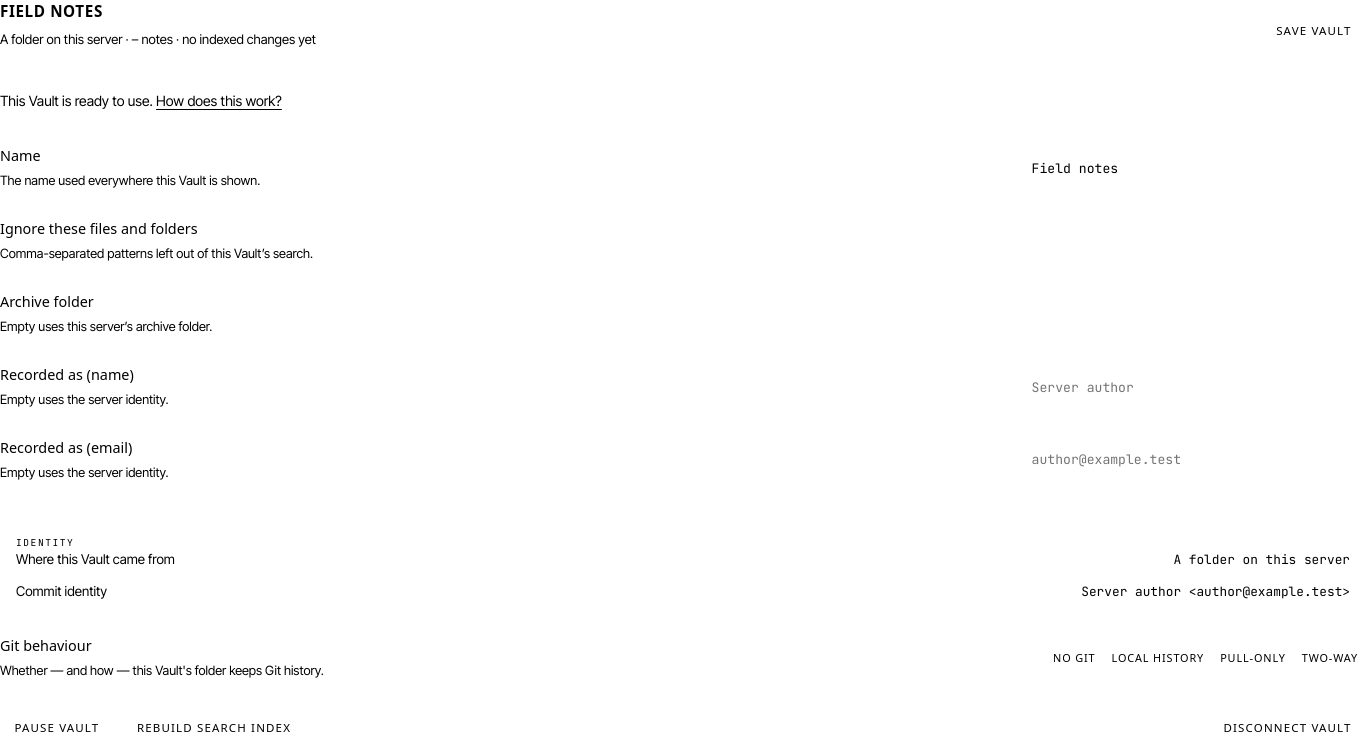
Test: VaultSettingsDetail — the Git behaviour control › also reports nothing changed, with the server's own reason, when the pause step itself fails
The image size is (1366, 752).
Expected: the heading "Field notes" is shown, top-left (0, 1), bottom-right (103, 21)
Step 1. Click the button "Local history" → [1158, 658], box top-left (1104, 644), bottom-right (1212, 672)
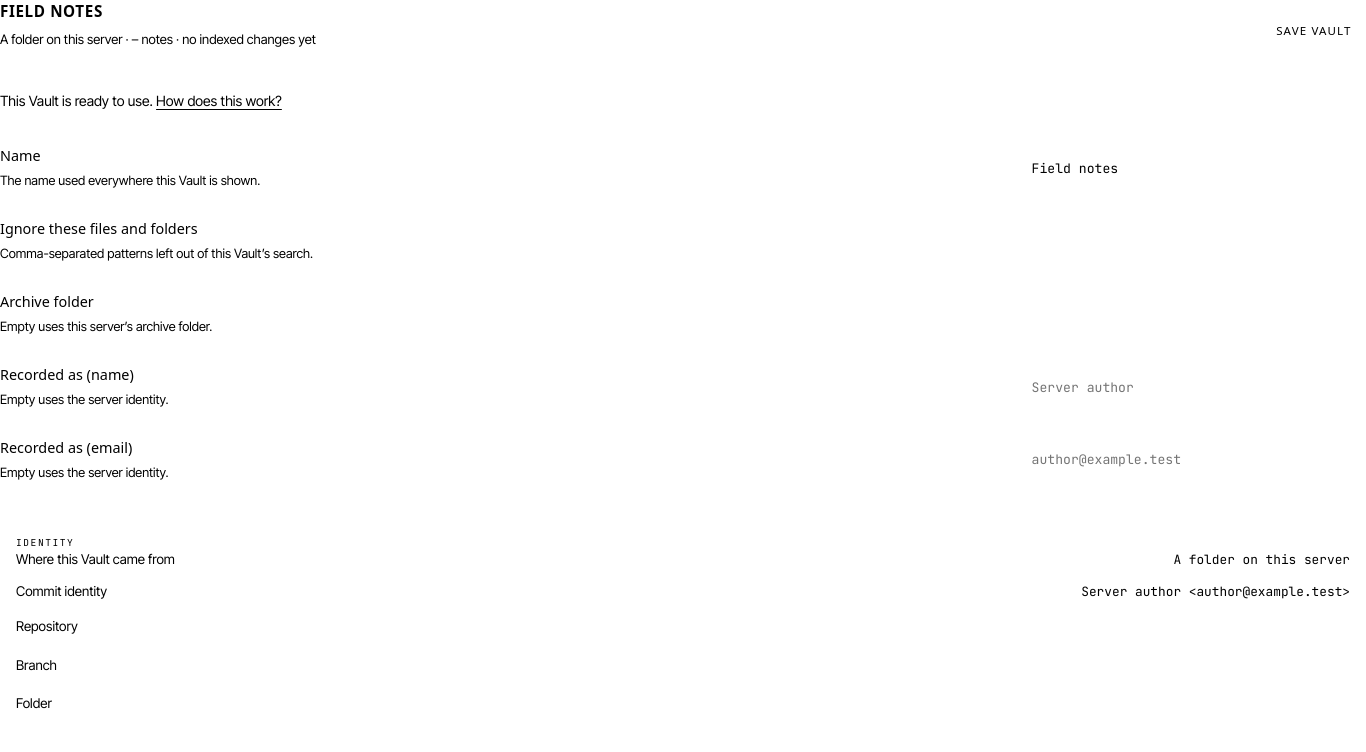
Step 2. Click the button "Save Vault" → [1314, 31], box top-left (1262, 16), bottom-right (1365, 45)
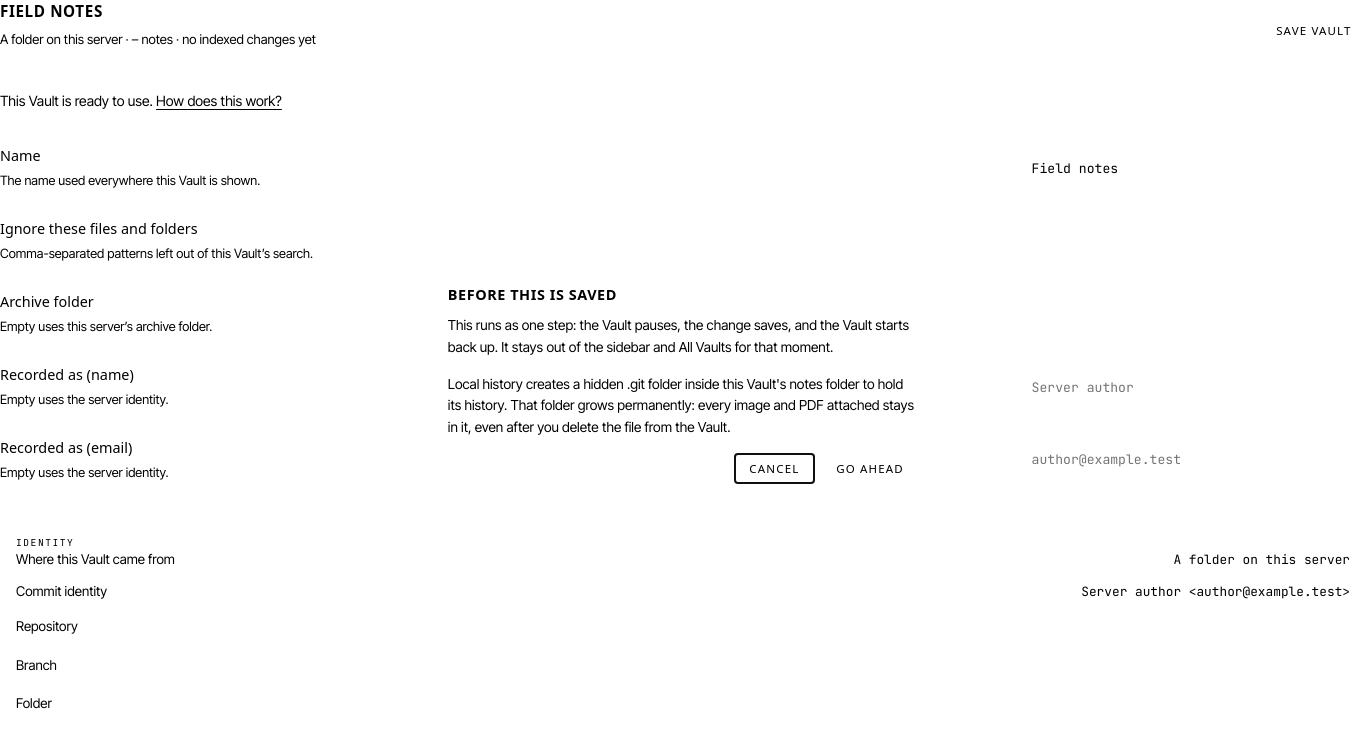
Step 3. Click the button "Go ahead" → [870, 469], box top-left (822, 454), bottom-right (918, 483)
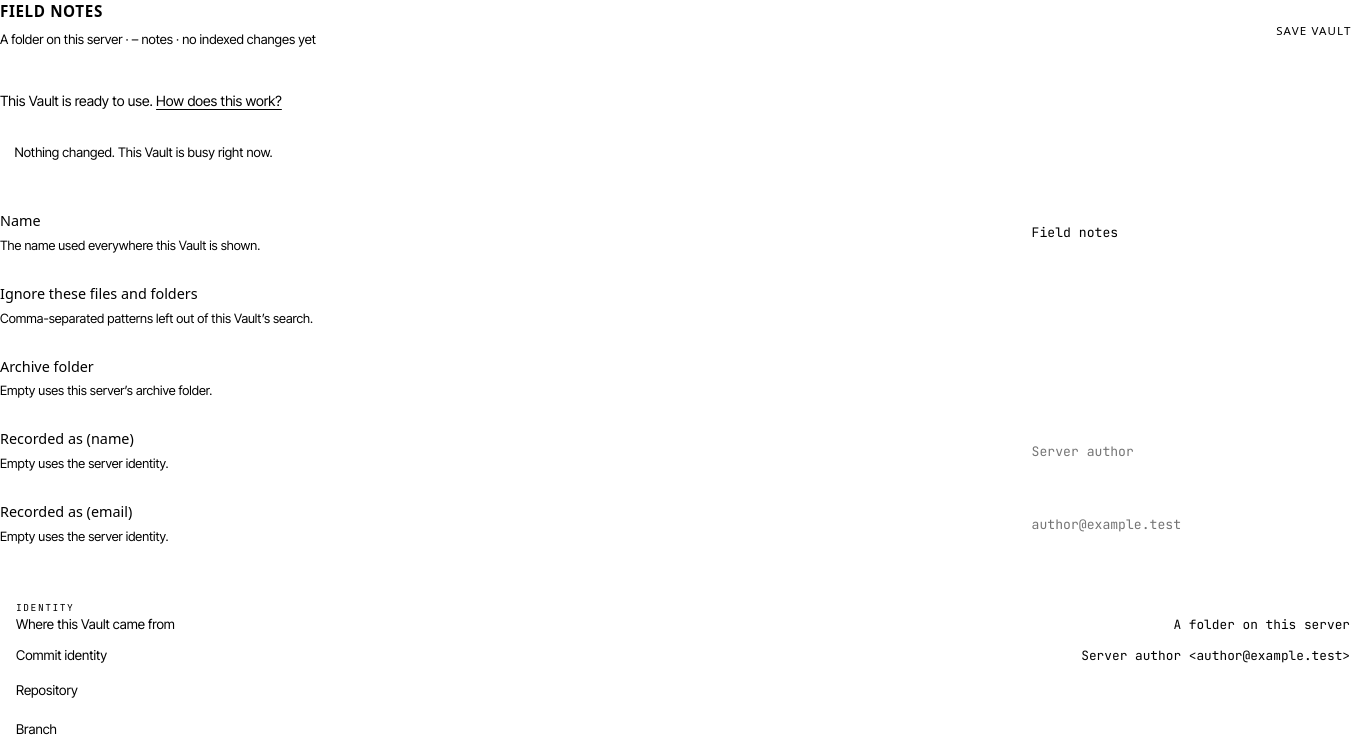
Expected: the text "Nothing changed. This Vault is busy right now." is shown, top-left (14, 144), bottom-right (273, 160)
